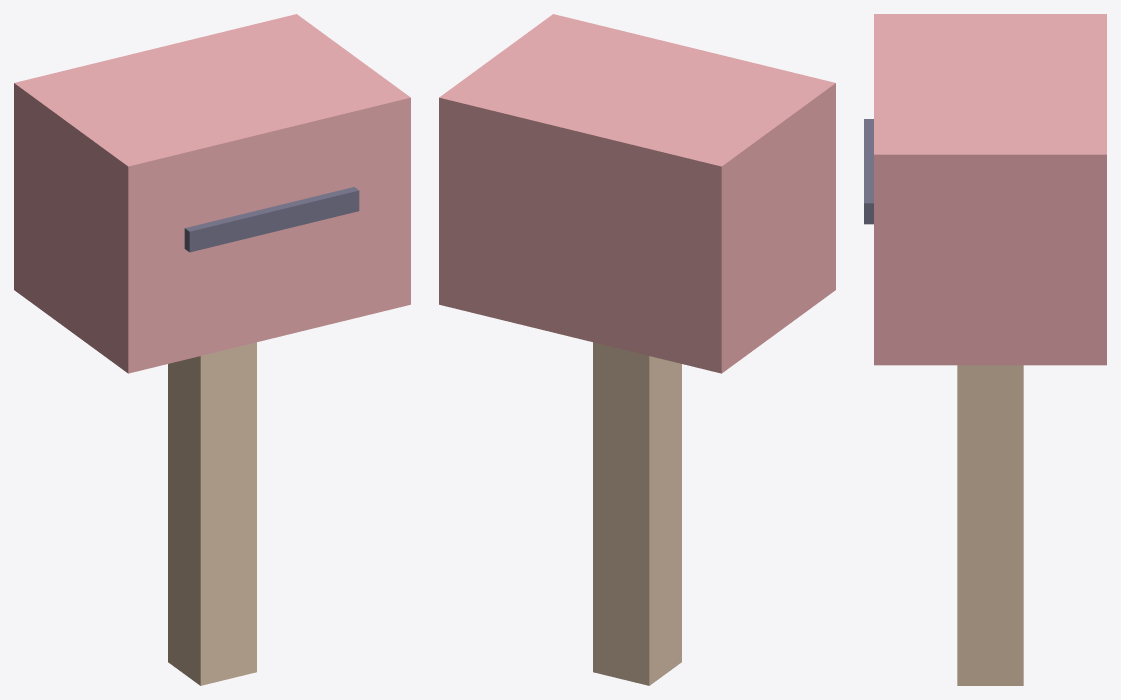
Rendered from mailbox.glb.
The picture shows the model from 3 angles, left to right: view 1: azimuth 30°, elevation 25°; view 2: azimuth 150°, elevation 25°; view 3: azimuth 270°, elevation 25°; orthographic projection.
Visible parts, largest first — view 1: box, post, slot; view 2: box, post; view 3: box, post, slot.
Part boxes in pixels (x1=…): box: x1=14, y1=14, x2=410, y2=373; post: x1=168, y1=342, x2=256, y2=685; slot: x1=184, y1=187, x2=359, y2=252; box: x1=439, y1=14, x2=835, y2=373; post: x1=593, y1=342, x2=681, y2=685; box: x1=874, y1=14, x2=1106, y2=365; post: x1=957, y1=365, x2=1023, y2=685; slot: x1=864, y1=119, x2=873, y2=224.
Size of the model in its own units: 0.5 by 0.975 by 0.365.
